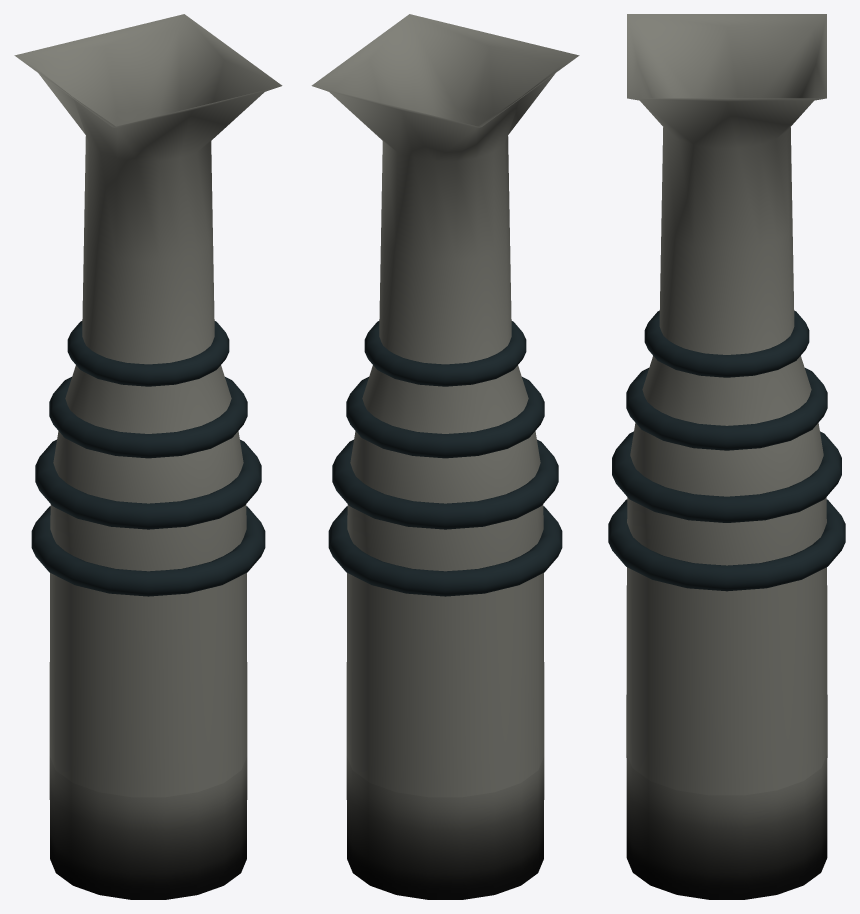
Rendered from CA_137_cosmodrome_support_pillar_var1.glb.
The picture shows the model from 3 angles, left to right: view 1: azimuth 30°, elevation 25°; view 2: azimuth 150°, elevation 25°; view 3: azimuth 270°, elevation 25°; orthographic projection.
Parts seen in each view (by area): view 1: pillar.002, rings.003; view 2: pillar.002, rings.003; view 3: pillar.002, rings.003.
Part boxes in pixels (bbox=[...]): pillar.002: bbox=[14, 14, 282, 899]; rings.003: bbox=[31, 321, 265, 596]; pillar.002: bbox=[311, 14, 579, 899]; rings.003: bbox=[328, 321, 562, 596]; pillar.002: bbox=[626, 14, 827, 899]; rings.003: bbox=[608, 310, 845, 591].
Size of the model in its own units: 0.9051 by 3.32 by 0.8913.
3 materials, 1 textured.
